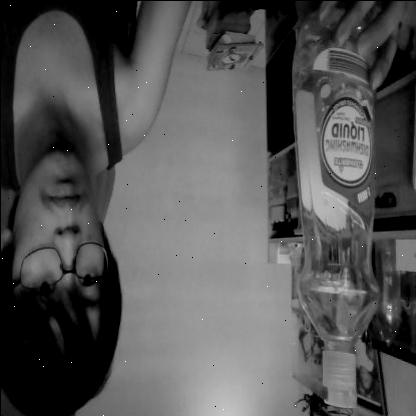Plastic Bottle: (290, 4, 384, 408)
